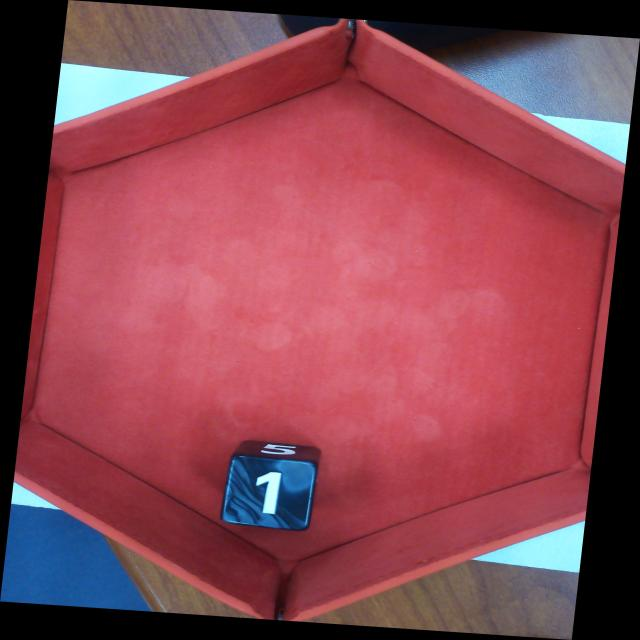dice: (226, 456, 315, 527)
